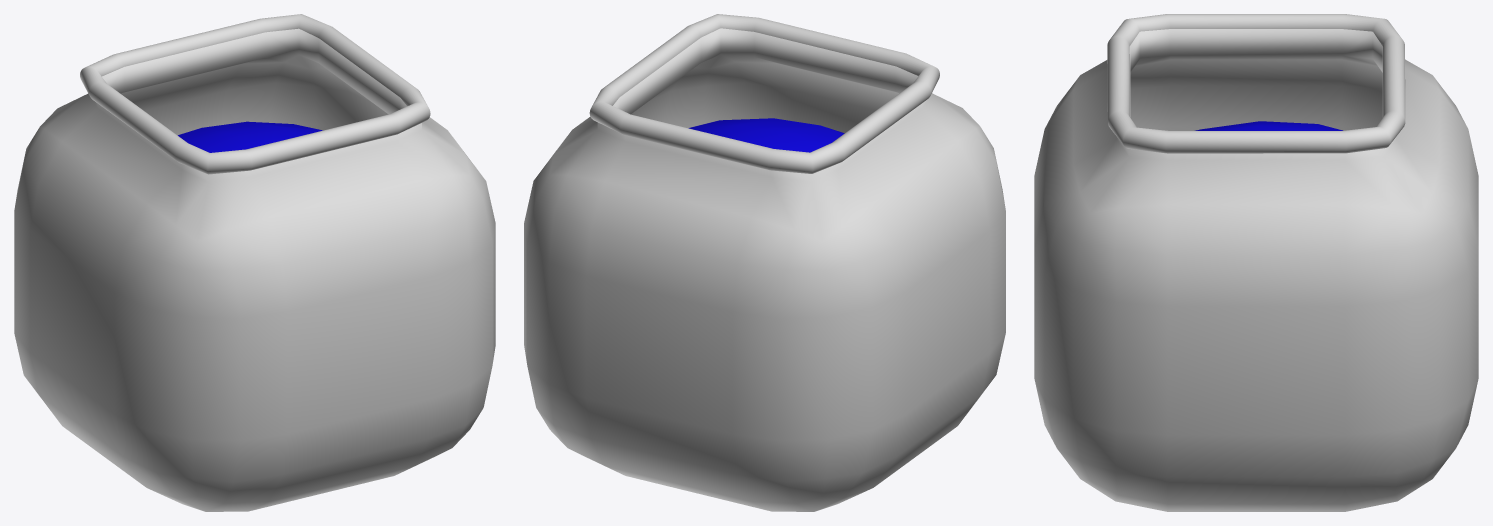
Rendered from source_slime.fbx.
The picture shows the model from 3 angles, left to right: view 1: azimuth 30°, elevation 25°; view 2: azimuth 150°, elevation 25°; view 3: azimuth 270°, elevation 25°; orthographic projection. The views are drawn at different scales.
Parts seen in each view (by area): view 1: bowl, wulst, Slime; view 2: bowl, wulst, Slime; view 3: bowl, wulst, Slime.
Boxes of the visible parts, box(x1,y1,x2,y2) form: bowl: box(14, 28, 495, 511); wulst: box(80, 14, 430, 174); Slime: box(178, 121, 322, 152); bowl: box(524, 28, 1005, 511); wulst: box(589, 14, 939, 173); Slime: box(688, 118, 844, 152); bowl: box(1034, 29, 1478, 511); wulst: box(1107, 14, 1405, 153); Slime: box(1195, 121, 1342, 130).
Size of the model in its own units: 100 by 96.67 by 100.
